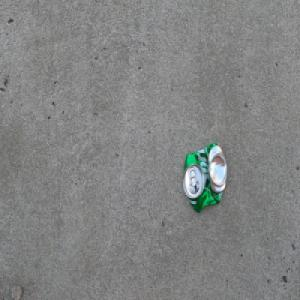SodaCan: (181, 141, 227, 214)
